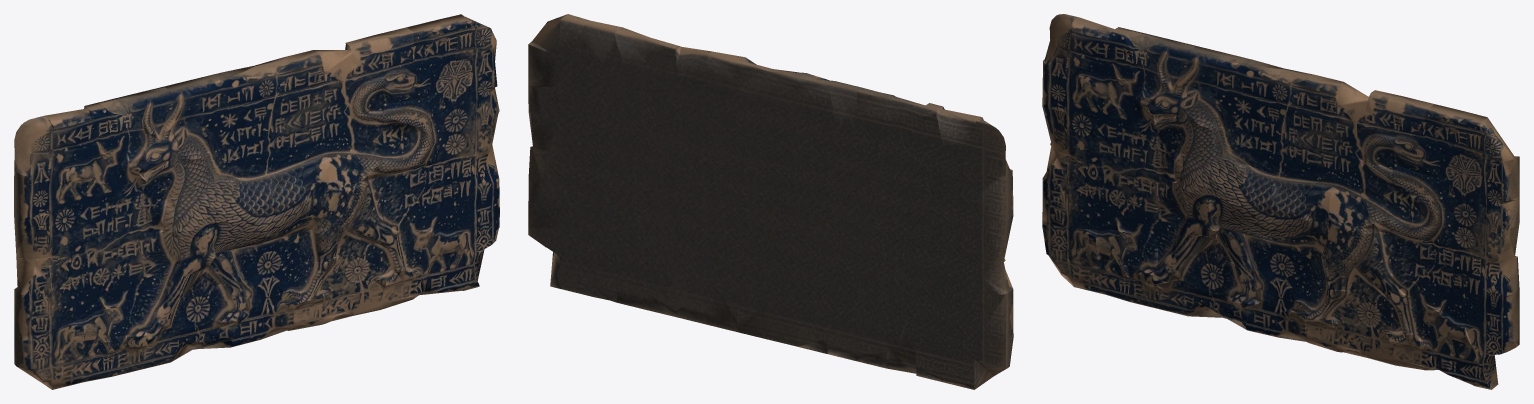
Rendered from babylon_chimera_relief_tile.glb.
3 views of the same model, side by side, from view 1: azimuth 30°, elevation 25°; view 2: azimuth 150°, elevation 25°; view 3: azimuth 330°, elevation 25° (orthographic).
Parts seen in each view (by area): view 1: mesh_node; view 2: mesh_node; view 3: mesh_node.
Boxes of the visible parts, box(x1,y1,x2,y2) form: mesh_node: box(14, 14, 499, 389); mesh_node: box(528, 14, 1013, 389); mesh_node: box(1042, 14, 1519, 389).
Size of the model in its own units: 1.9 by 1.03 by 0.1157.
1 material, 1 textured.
